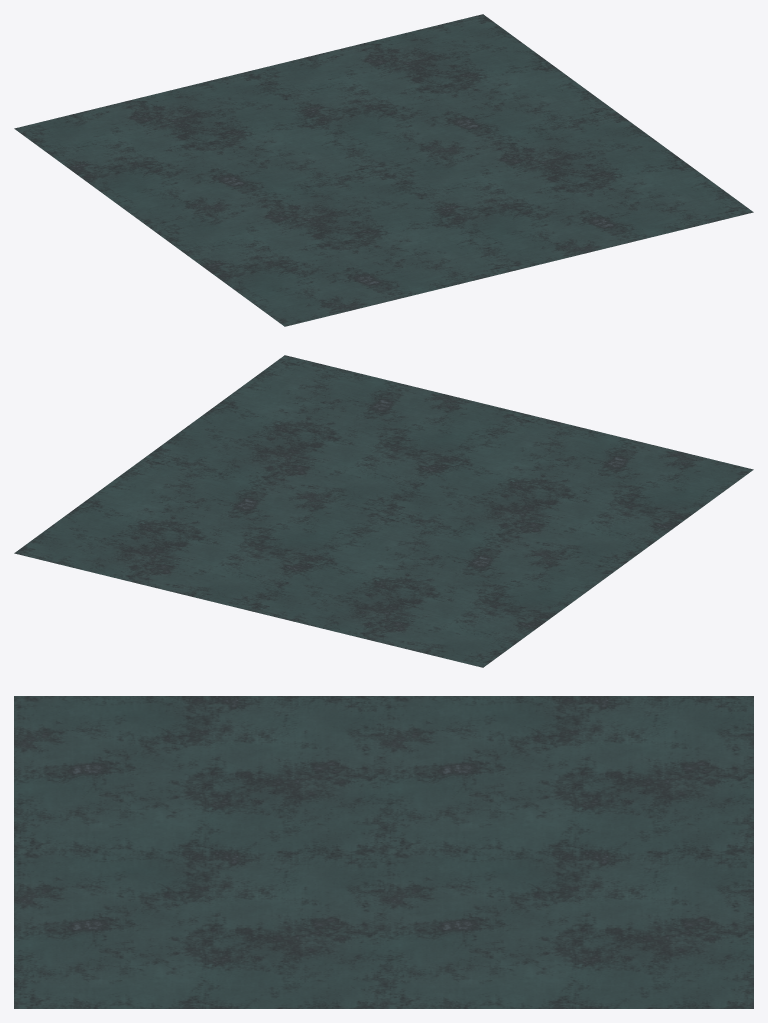
Rendered from Rough_Dark_Painted_concrete.gltf.
3 renders of one model, top to bottom at view 1: azimuth 30°, elevation 25°; view 2: azimuth 150°, elevation 25°; view 3: azimuth 270°, elevation 25°, orthographic. The views are drawn at different scales.
Visible parts, largest first — view 1: Plane; view 2: Plane; view 3: Plane.
Part boxes in pixels (left/top/right/bottom): Plane: left=14, top=14, right=753, bottom=326; Plane: left=14, top=355, right=753, bottom=667; Plane: left=14, top=696, right=753, bottom=1008.
Size of the model in its own units: 10 by 2.22e-15 by 10.
1 material, 1 textured.
